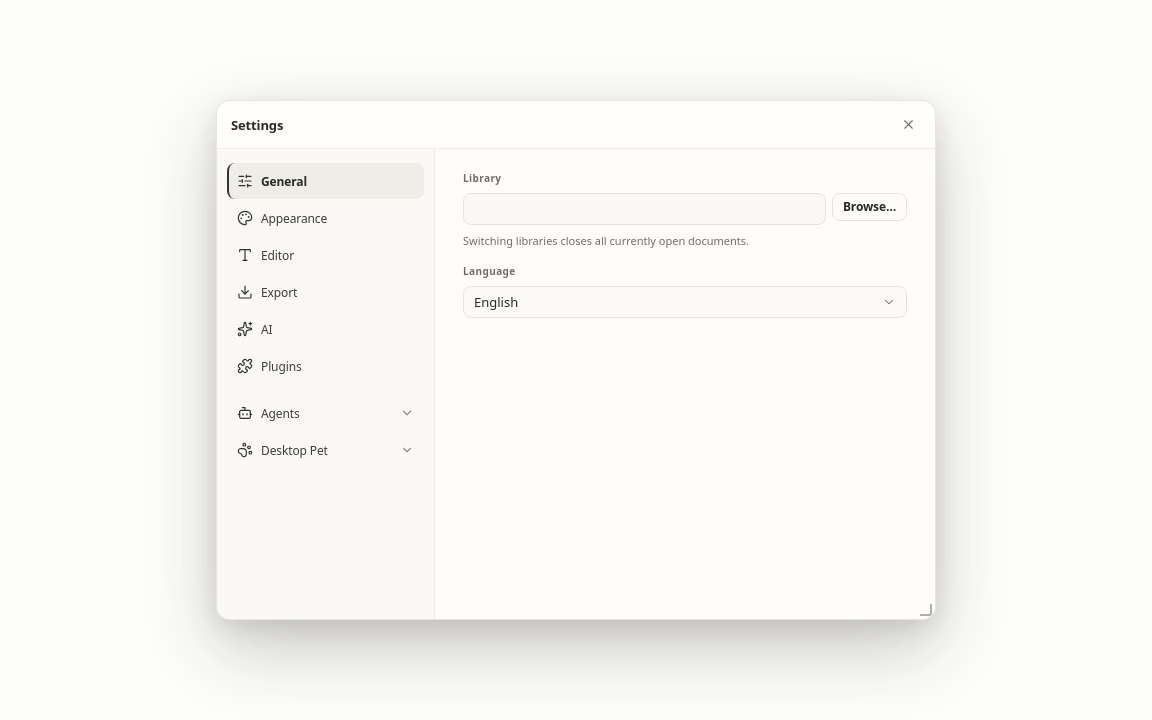
the agents section in the settings dialog › mounts the pages whose host half exists, over the window’s own commands
The width and height of the screenshot is (1152, 720).
Click the tab with class "nav-row" showing "Agents".
click(326, 413)  # box [227, 395, 424, 431]
(page scrolled)
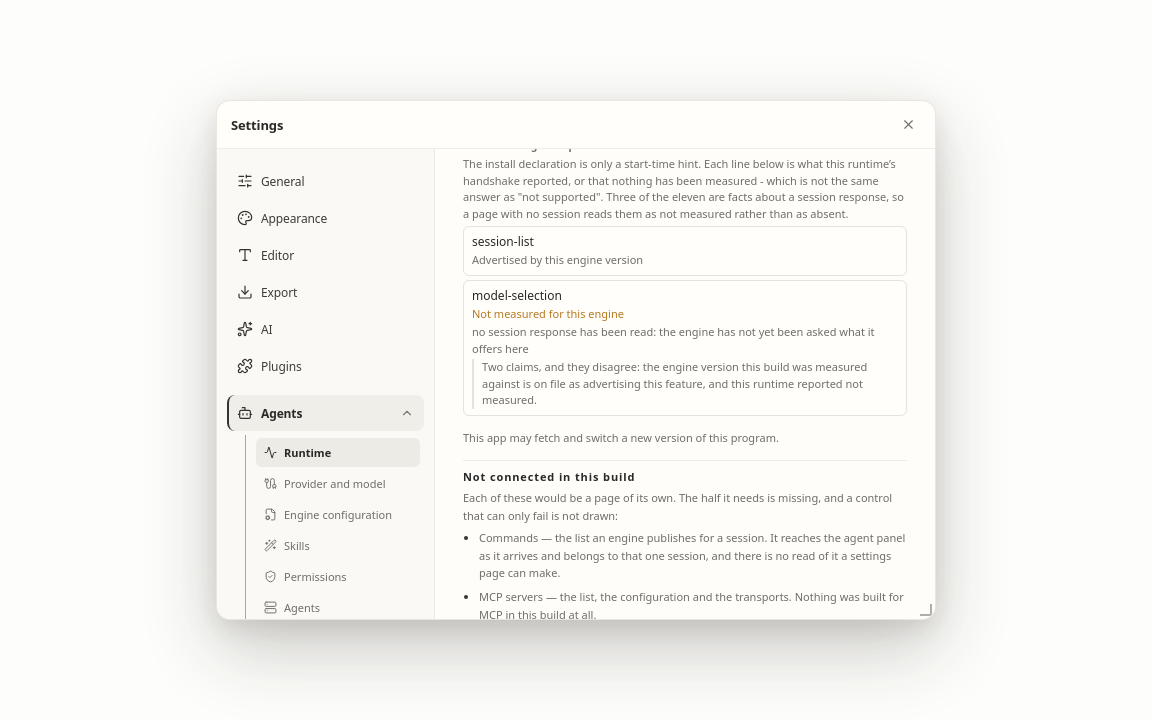
Check: the text "Advertised by this engine version" is shown, box [472, 252, 643, 267]
Check: the text "Not measured for this engine" is shown, box [472, 306, 624, 321]
Check: the text "on file as advertising this feature" is shown, box [482, 359, 867, 407]
